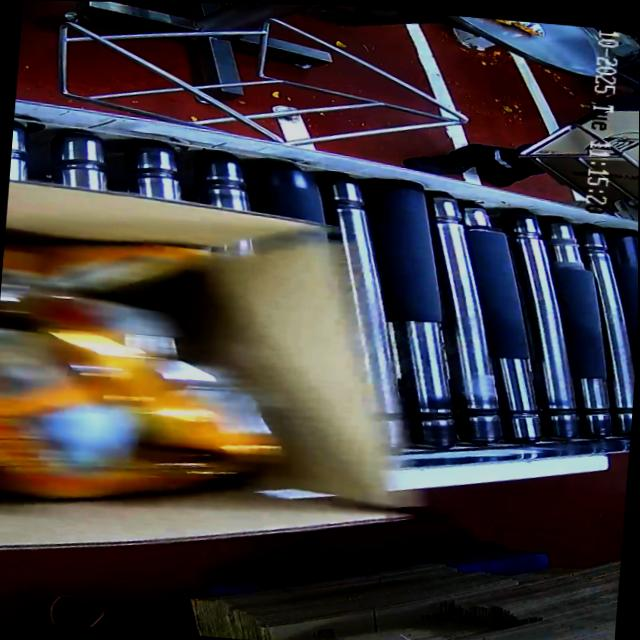FRENCH_CHEESE: (0, 219, 288, 528)
